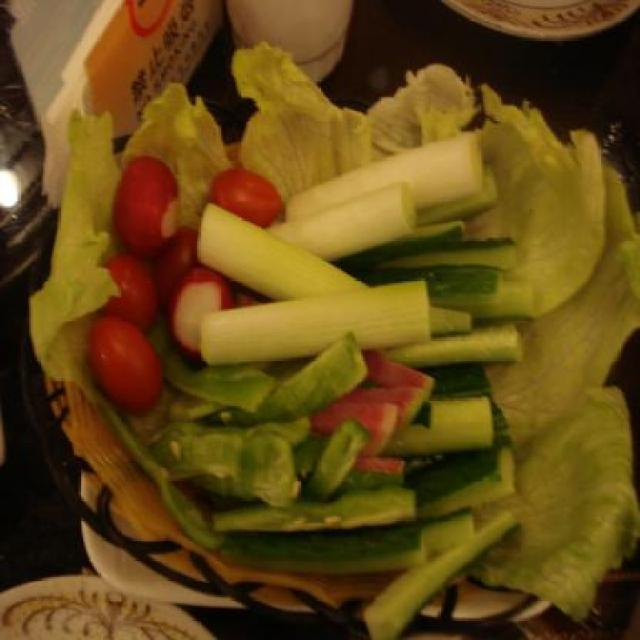Tomato: (83, 310, 159, 412), (114, 154, 182, 255), (166, 266, 234, 354), (142, 220, 202, 302), (100, 250, 156, 330), (212, 164, 286, 224)
